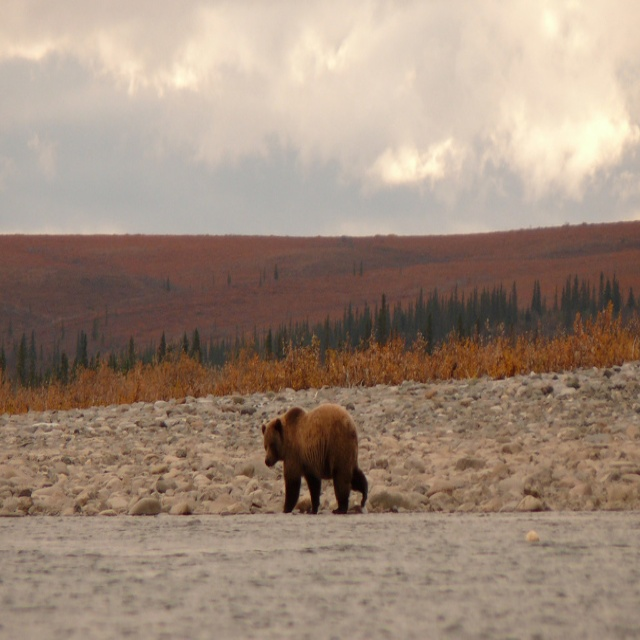Brown bear: (260, 404, 366, 516)
